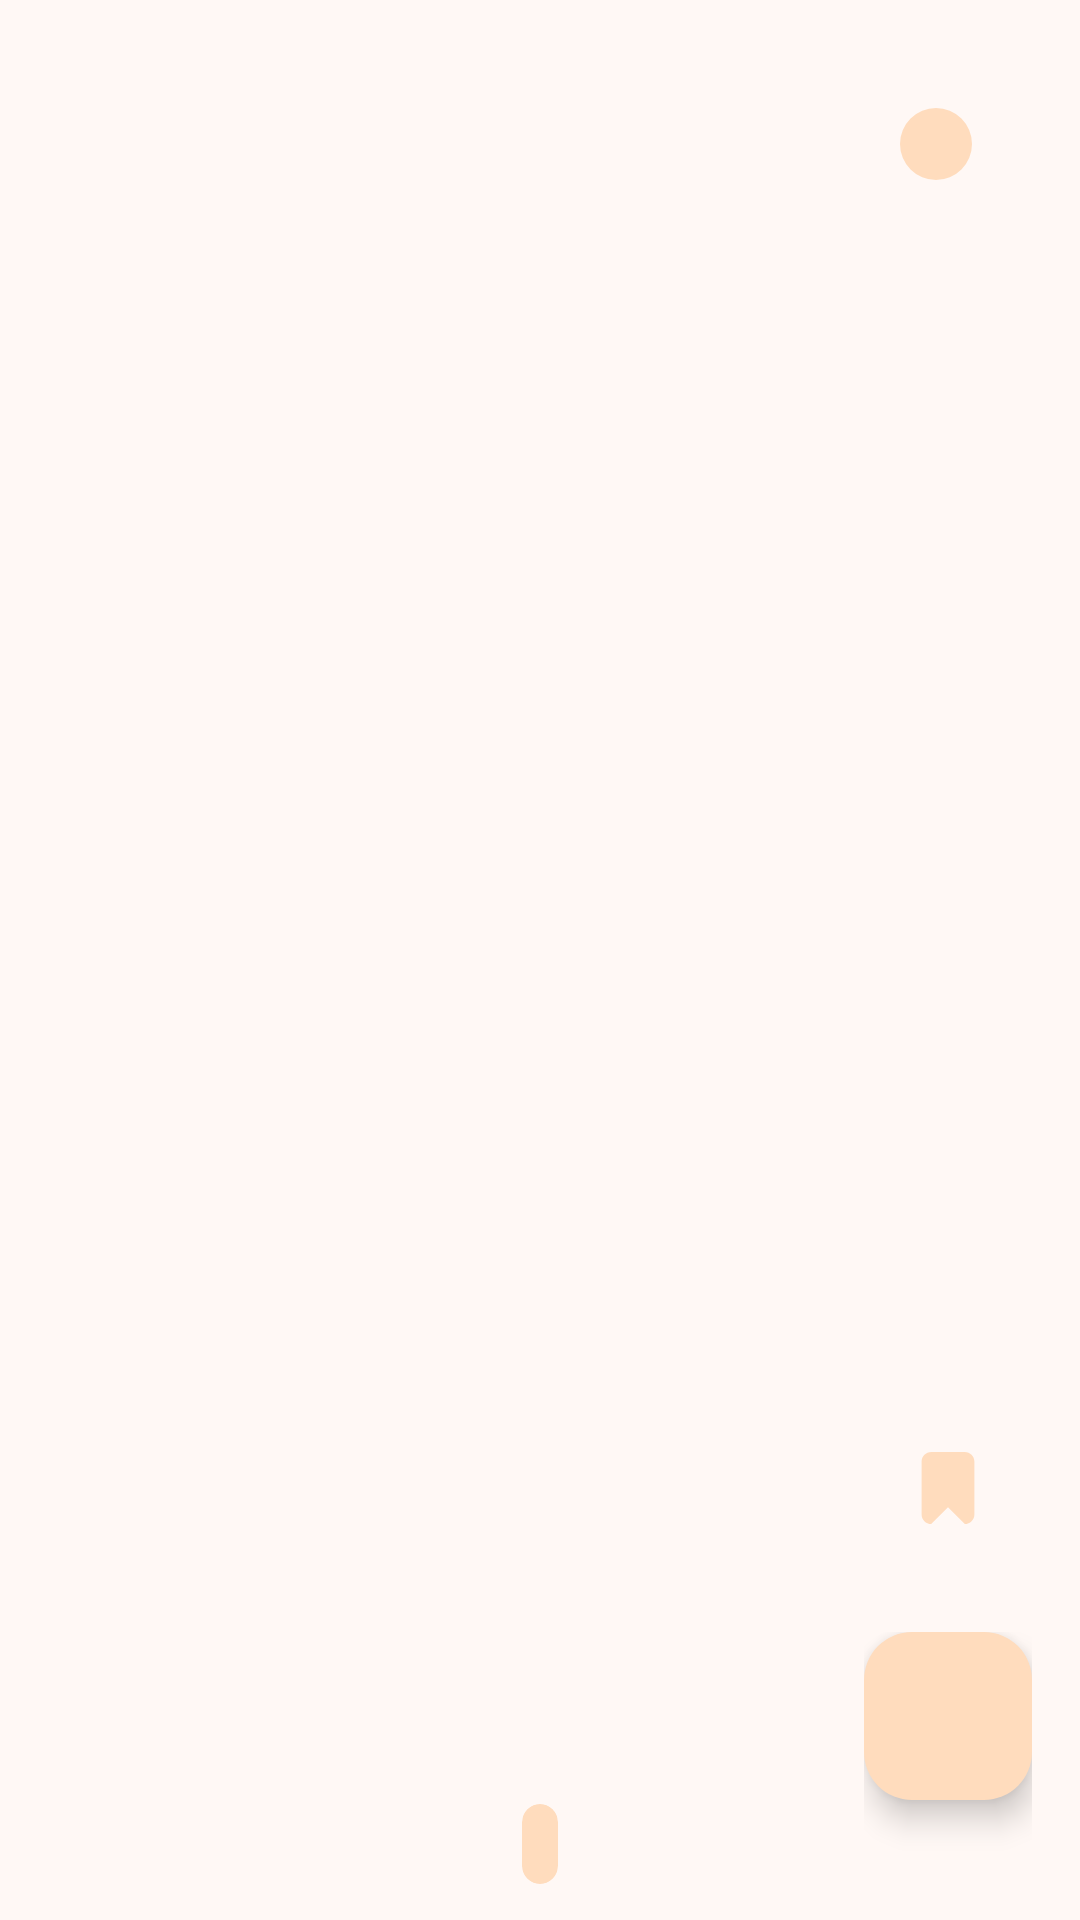

Icon click points for this 1080px×1920px phone screenshot, format (x=x, y=y):
bookmark: (x=948, y=1488)
